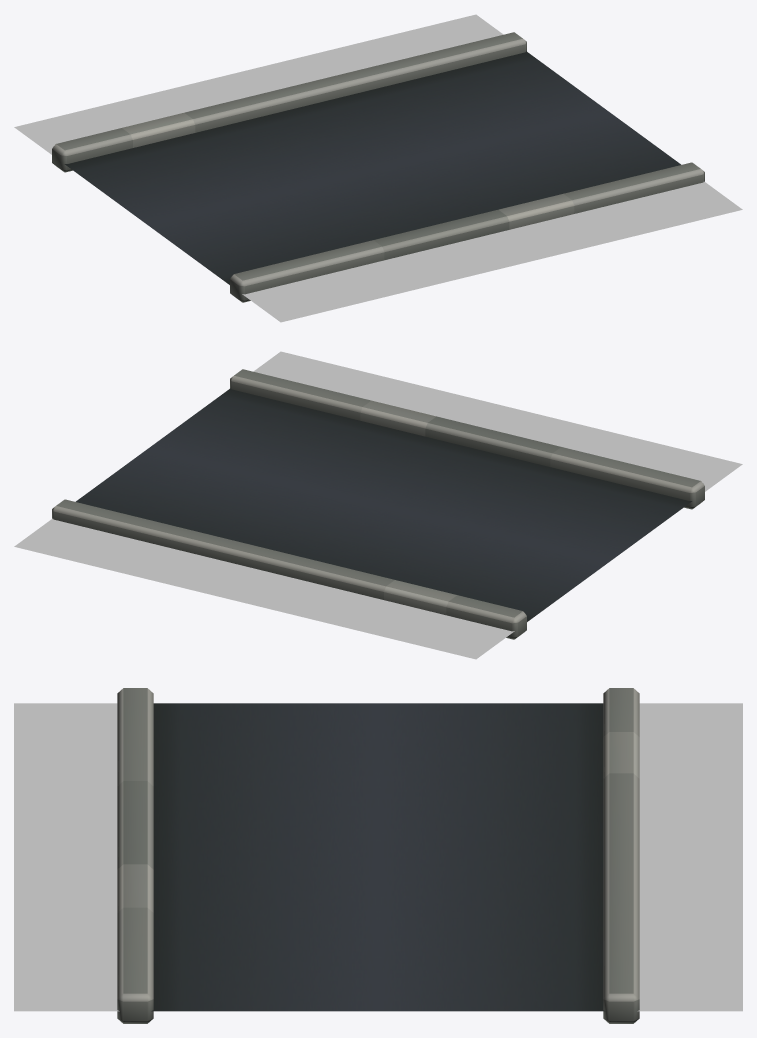
The model's file is lane_section_x6.fbx.
3 views of the same model, one above another, from view 1: azimuth 30°, elevation 25°; view 2: azimuth 150°, elevation 25°; view 3: azimuth 270°, elevation 25° (orthographic). The views are drawn at different scales.
Visible parts, largest first — view 1: lane_section_x6, lane_section_x6_sidewalk; view 2: lane_section_x6, lane_section_x6_sidewalk; view 3: lane_section_x6, lane_section_x6_sidewalk.
Boxes of the visible parts, box(x1,y1,x2,y2) form: lane_section_x6: box(52, 32, 704, 302); lane_section_x6_sidewalk: box(14, 14, 742, 322); lane_section_x6: box(52, 369, 704, 639); lane_section_x6_sidewalk: box(14, 351, 742, 659); lane_section_x6: box(117, 688, 639, 1023); lane_section_x6_sidewalk: box(14, 703, 742, 1011).
Size of the model in its own units: 1210 by 55 by 1200.
